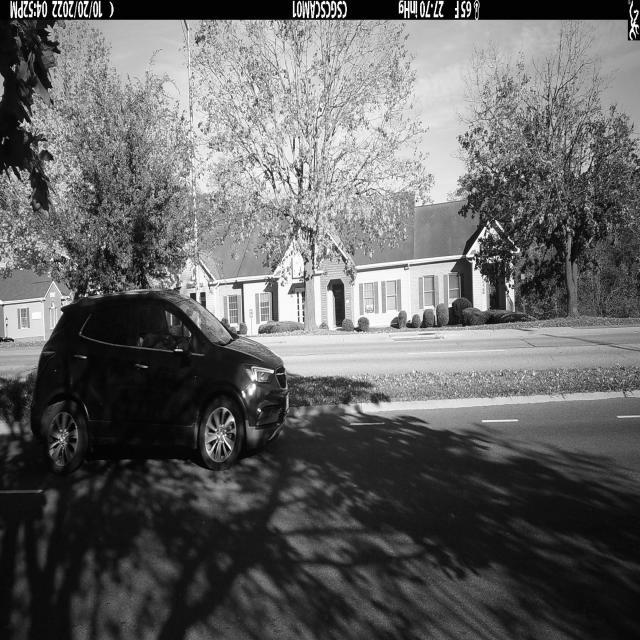SUV: (31, 292, 290, 475)
